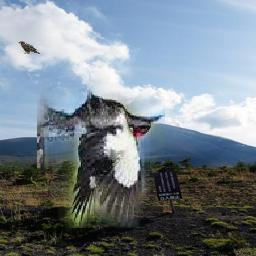Crow: (18, 42, 40, 55)
Woodpecker: (37, 68, 165, 229)
